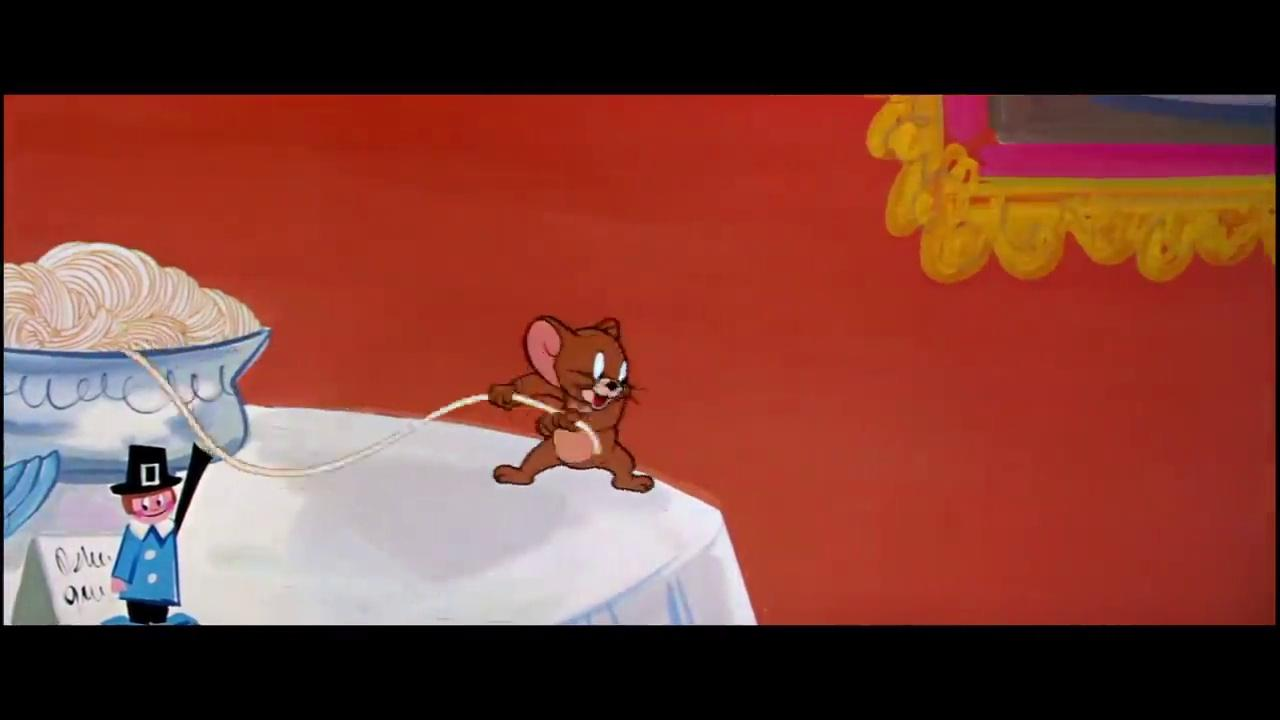Jerry: (484, 310, 660, 494)
